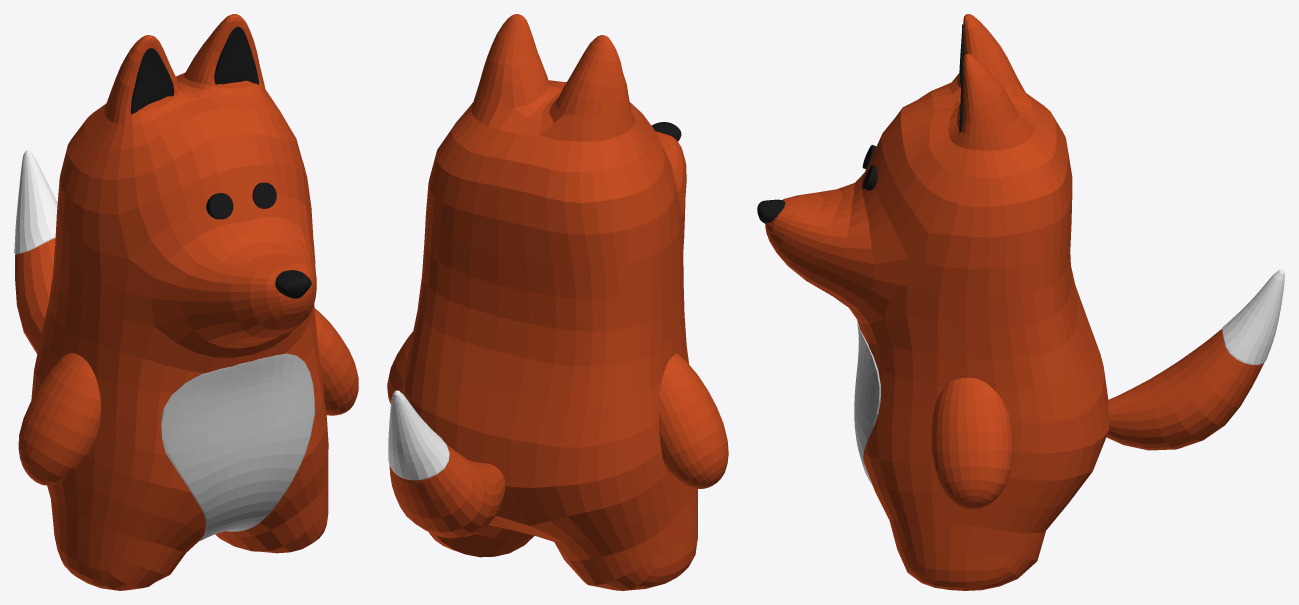
File: fox.fbx
3 views of the same model, side by side, from view 1: azimuth 30°, elevation 25°; view 2: azimuth 150°, elevation 25°; view 3: azimuth 270°, elevation 25° (orthographic). The views are drawn at different scales.
Parts seen in each view (by area): view 1: Fox Body; view 2: Fox Body; view 3: Fox Body.
Boxes of the visible parts, x1=… form: Fox Body: x1=14, y1=14, x2=358, y2=590; Fox Body: x1=387, y1=14, x2=728, y2=590; Fox Body: x1=757, y1=14, x2=1284, y2=590.
Size of the model in its own units: 95.64 by 147 by 138.
